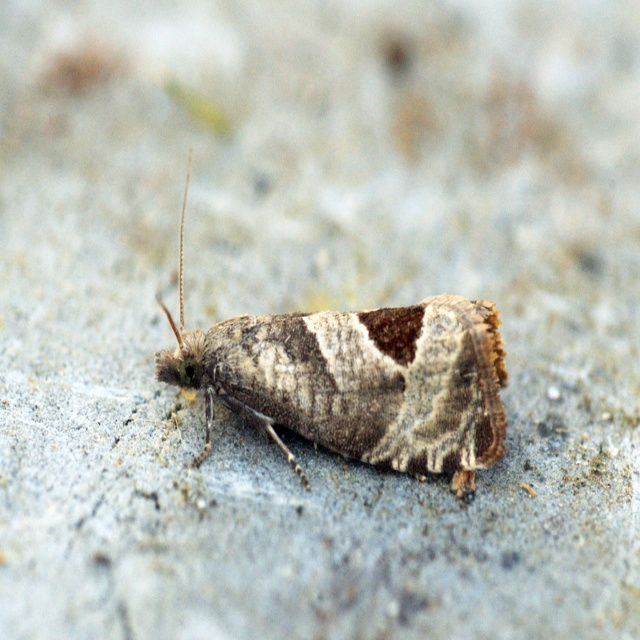Moths and butterflies: (154, 145, 512, 497)
